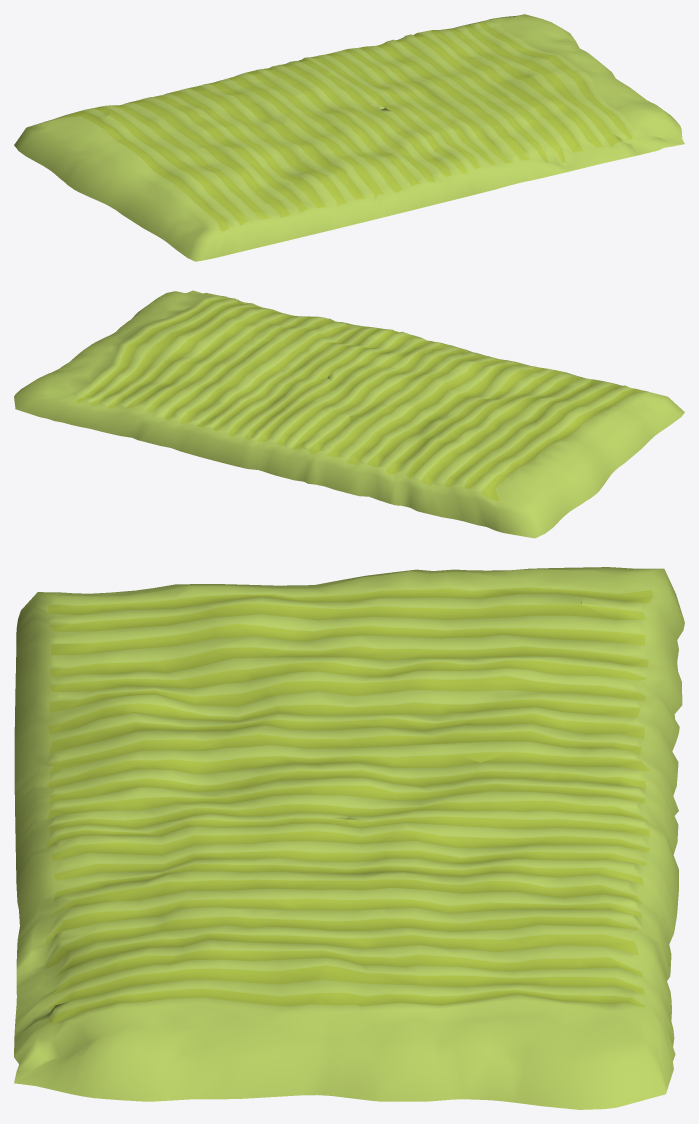
File: field_004.glb
The picture shows the model from 3 angles, top to bottom: view 1: azimuth 30°, elevation 25°; view 2: azimuth 150°, elevation 25°; view 3: azimuth 270°, elevation 25°; orthographic projection. The views are drawn at different scales.
Parts seen in each view (by area): view 1: field_004; view 2: field_004; view 3: field_004.
Part boxes in pixels (box(x1,y1,x2,y2)): field_004: box(14, 14, 684, 261); field_004: box(14, 290, 684, 538); field_004: box(14, 567, 684, 1109).
Size of the model in its own units: 491 by 27.28 by 269.
Materials: 1 (1 with a texture image).
